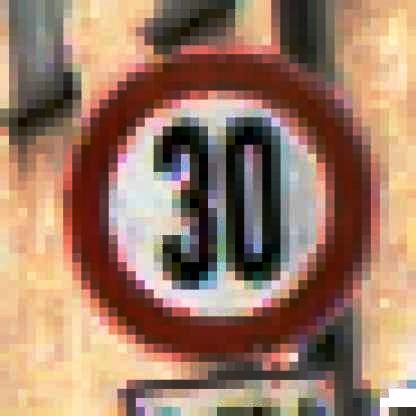Speed Limit -30-: (62, 48, 378, 358)
